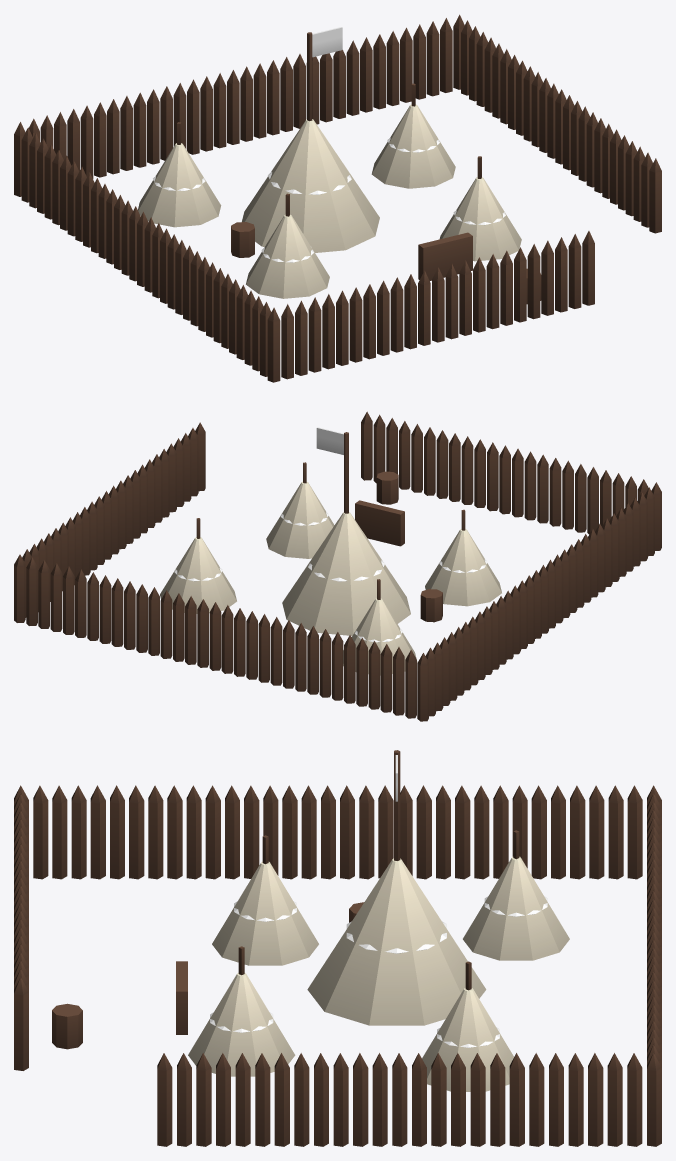
File: CAMP_NE.glb
3 views of the same model, one above another, from view 1: azimuth 30°, elevation 25°; view 2: azimuth 150°, elevation 25°; view 3: azimuth 270°, elevation 25° (orthographic). The views are drawn at different scales.
Visible parts, largest first — view 1: Body, Flag; view 2: Body, Flag; view 3: Body.
Part boxes in pixels (x1=…): Body: x1=14, y1=14, x2=661, y2=382; Flag: x1=312, y1=27, x2=342, y2=57; Body: x1=14, y1=411, x2=661, y2=721; Flag: x1=316, y1=427, x2=343, y2=454; Body: x1=14, y1=750, x2=661, y2=1146.
Bounding box in the file's own units: 5.43 × 2.2 × 5.43.
1 material, 1 textured.
